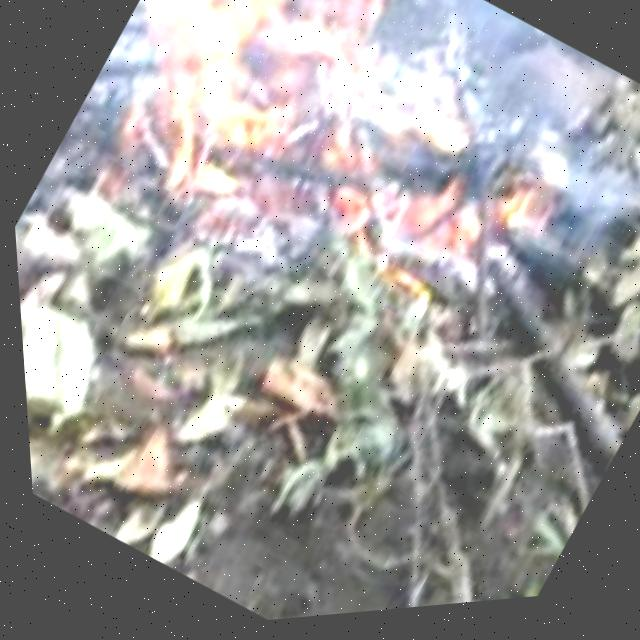Fire: (63, 0, 635, 376)
